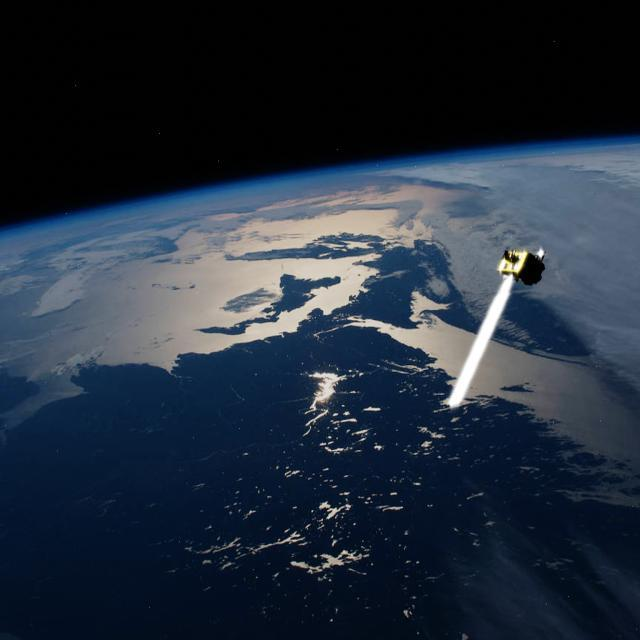satellite: (429, 225, 562, 424)
